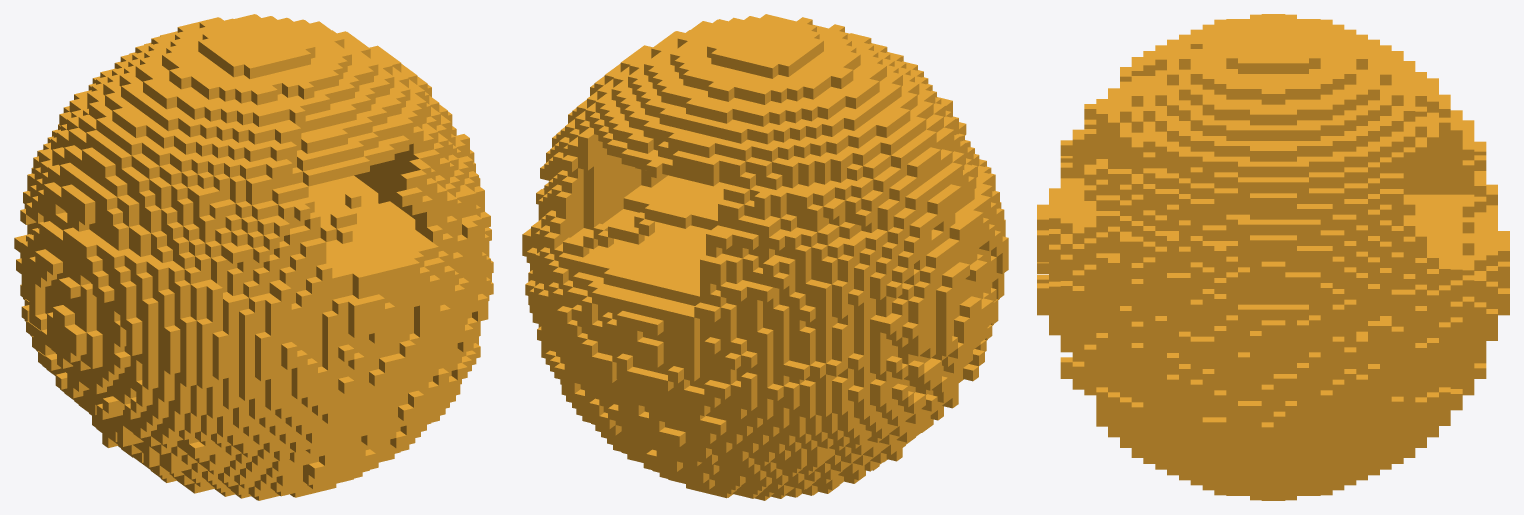
The model's file is Gigante_Vermelha#fdb332.dae.
3 views of the same model, side by side, from view 1: azimuth 30°, elevation 25°; view 2: azimuth 150°, elevation 25°; view 3: azimuth 270°, elevation 25° (orthographic).
Parts seen in each view (by area): view 1: Gigante_Vermelha#fdb332-obj.vox; view 2: Gigante_Vermelha#fdb332-obj.vox; view 3: Gigante_Vermelha#fdb332-obj.vox.
Boxes of the visible parts, <box> form: Gigante_Vermelha#fdb332-obj.vox: <box>14,14,493,500</box>; Gigante_Vermelha#fdb332-obj.vox: <box>522,14,1008,500</box>; Gigante_Vermelha#fdb332-obj.vox: <box>1037,14,1509,500</box>.
Bounding box in the file's own units: 4 × 4 × 4.
